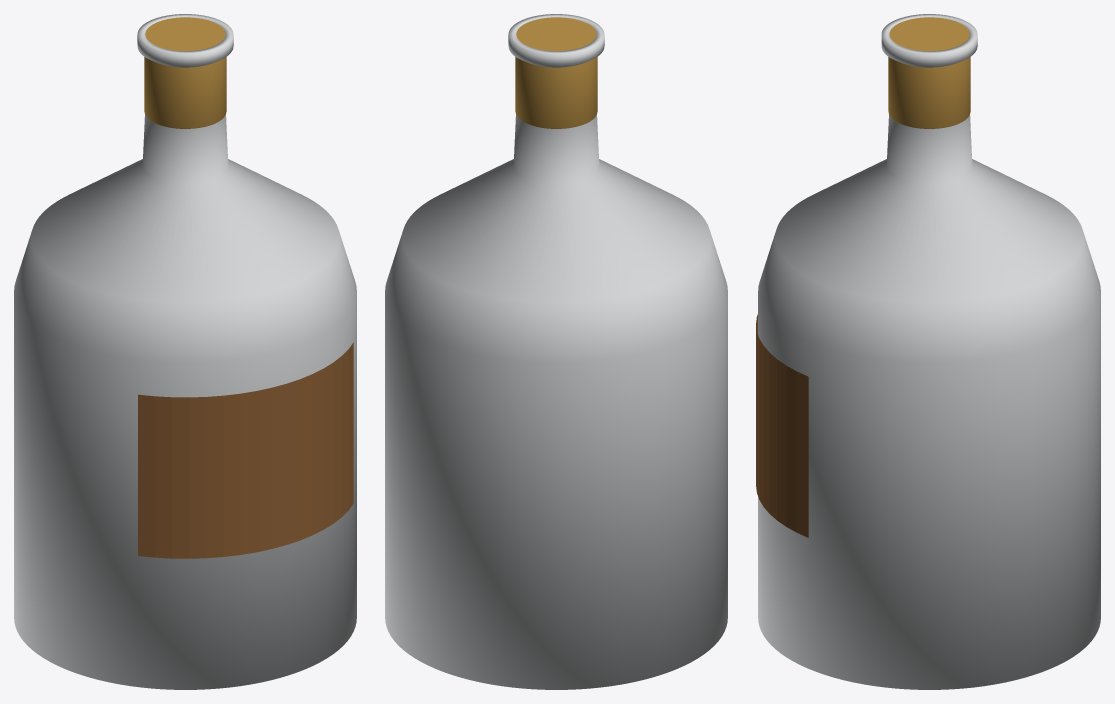
3 renders of one model, left to right at view 1: azimuth 30°, elevation 25°; view 2: azimuth 150°, elevation 25°; view 3: azimuth 270°, elevation 25°, orthographic.
Visible parts, largest first — view 1: TI045 / hollow glass / open neck and thick base, TI045 / curved bottle label, TI045 / bottle neck foil; view 2: TI045 / hollow glass / open neck and thick base, TI045 / bottle neck foil; view 3: TI045 / hollow glass / open neck and thick base, TI045 / curved bottle label, TI045 / bottle neck foil.
Boxes of the visible parts, left/top/right/bottom form: TI045 / hollow glass / open neck and thick base: left=14, top=14, right=356, bottom=689; TI045 / curved bottle label: left=138, top=342, right=353, bottom=558; TI045 / bottle neck foil: left=144, top=17, right=226, bottom=128; TI045 / hollow glass / open neck and thick base: left=385, top=14, right=727, bottom=689; TI045 / bottle neck foil: left=515, top=17, right=597, bottom=128; TI045 / hollow glass / open neck and thick base: left=758, top=14, right=1100, bottom=689; TI045 / curved bottle label: left=756, top=314, right=808, bottom=537; TI045 / bottle neck foil: left=888, top=17, right=970, bottom=128.
Bounding box in the file's own units: 1.3 × 2.5 × 1.31.
